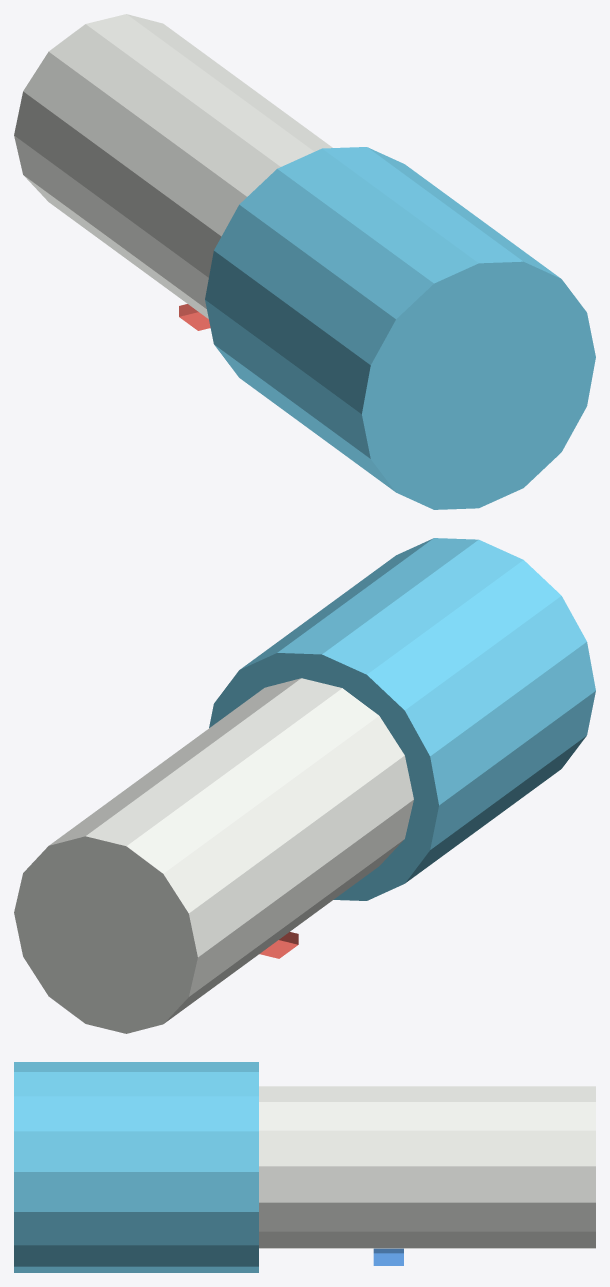
The model's file is water_cooler.glb.
3 views of the same model, one above another, from view 1: azimuth 30°, elevation 25°; view 2: azimuth 150°, elevation 25°; view 3: azimuth 270°, elevation 25° (orthographic). The views are drawn at different scales.
Visible parts, largest first — view 1: water_cooler_bottle, water_cooler_body; view 2: water_cooler_body, water_cooler_bottle; view 3: water_cooler_body, water_cooler_bottle, water_cooler_button_blue.
Boxes of the visible parts, x1,y1,x2,y2 form: water_cooler_bottle: (205, 147, 595, 509); water_cooler_body: (14, 14, 332, 318); water_cooler_body: (14, 678, 413, 1033); water_cooler_bottle: (209, 538, 595, 900); water_cooler_body: (259, 1086, 595, 1248); water_cooler_bottle: (14, 1062, 258, 1272); water_cooler_button_blue: (373, 1248, 403, 1265).
Size of the model in its own units: 0.56 by 0.56 by 1.55.
